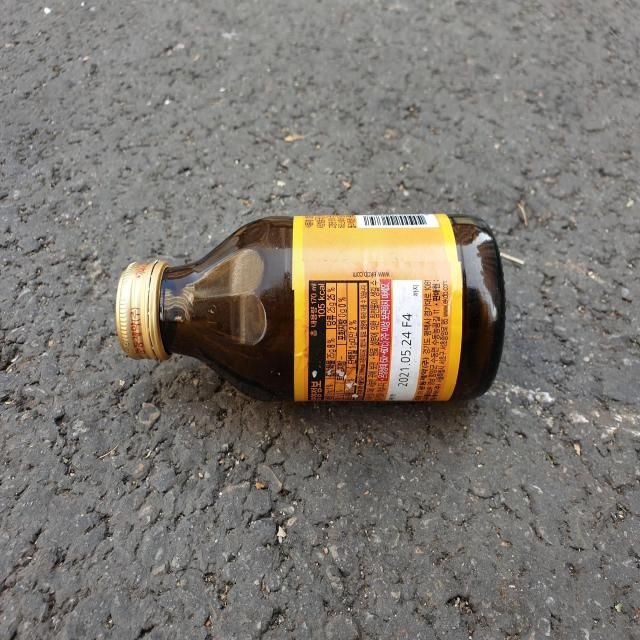glass: (115, 214, 506, 402)
